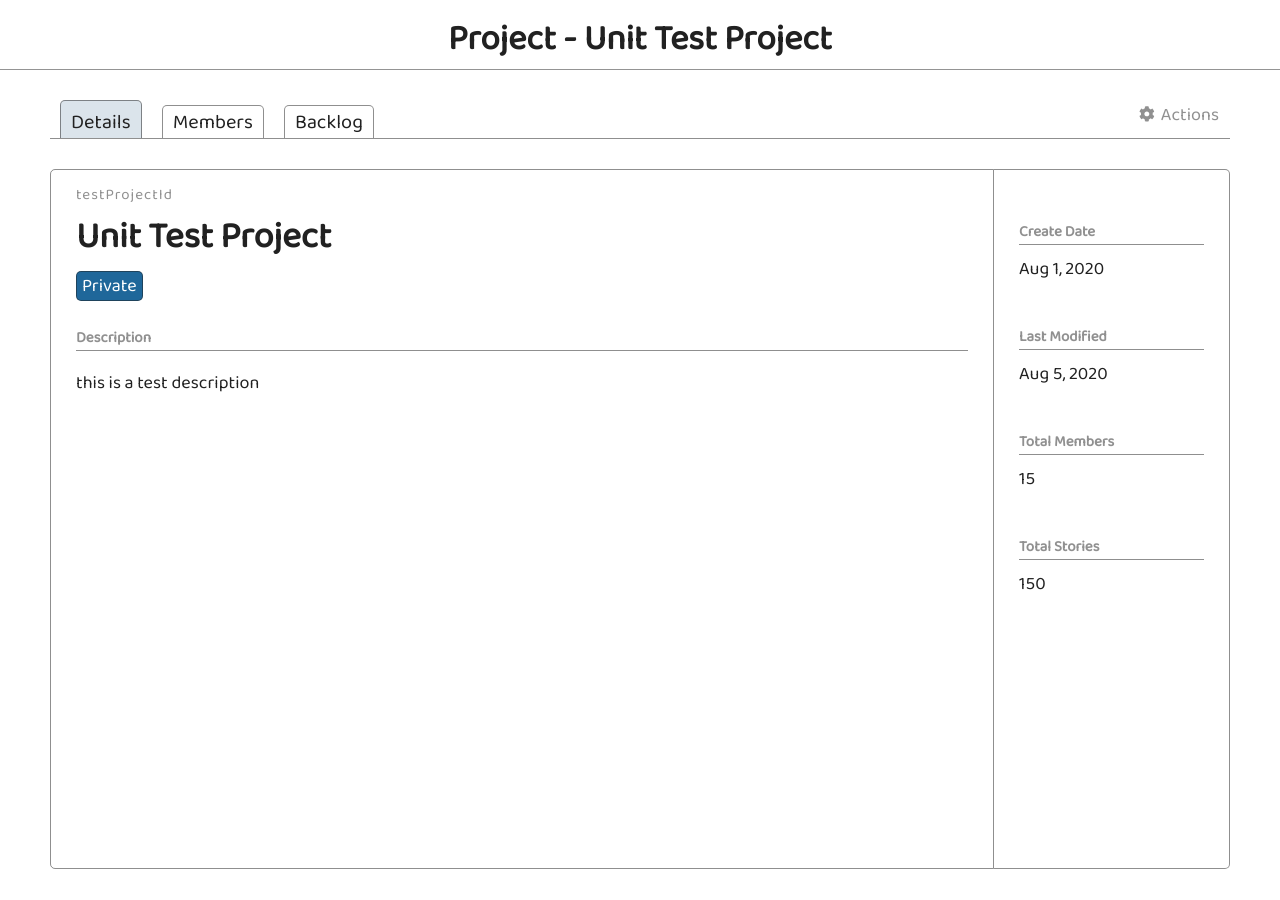
Test: <ProjectDetails /> › should show the delete membership modal if the action is clicked with sufficient permission
Click the text "Members": click(213, 122) [162, 105, 264, 138]
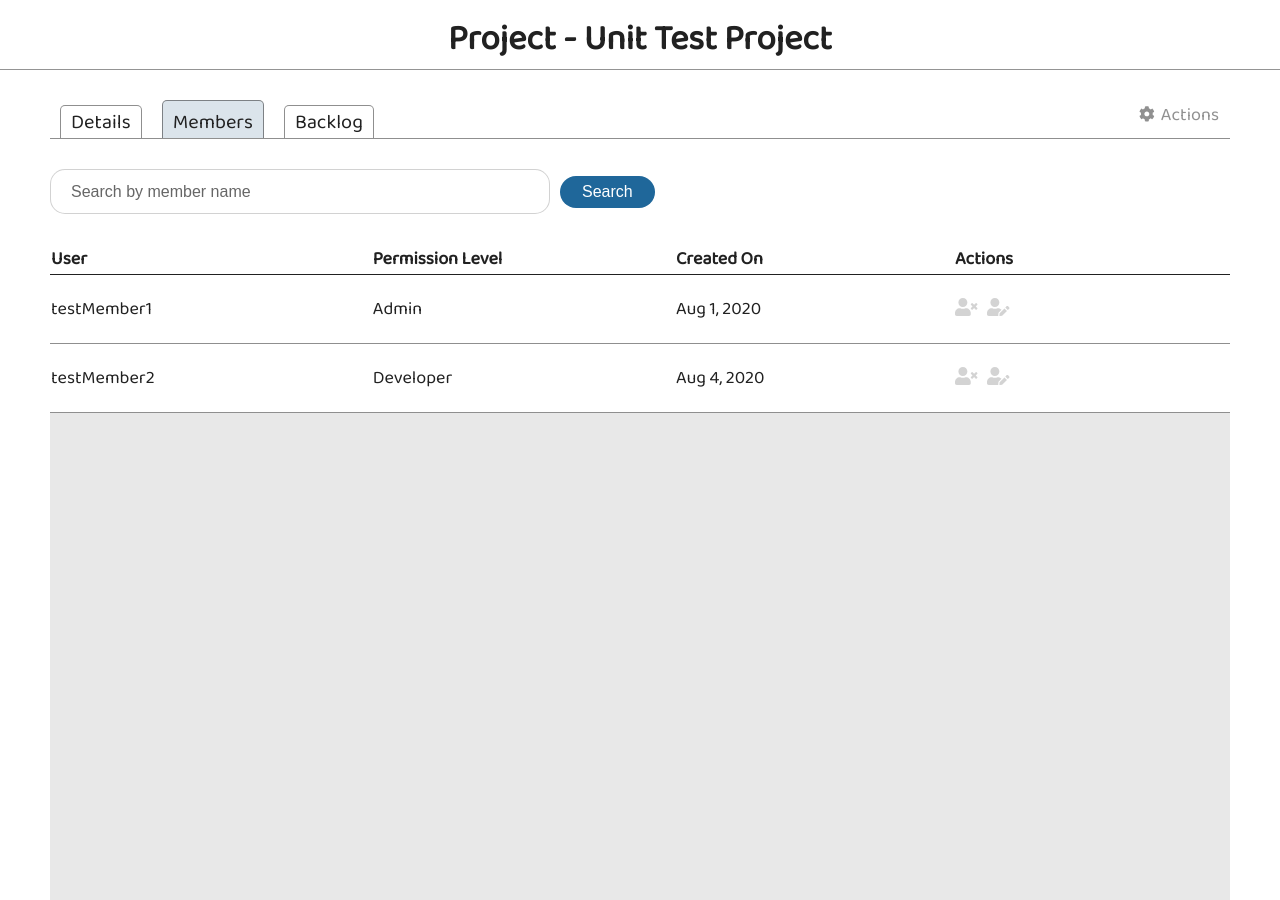
Click the 2nd element with test id "action.deleteMembership": click(966, 376) [955, 367, 977, 385]
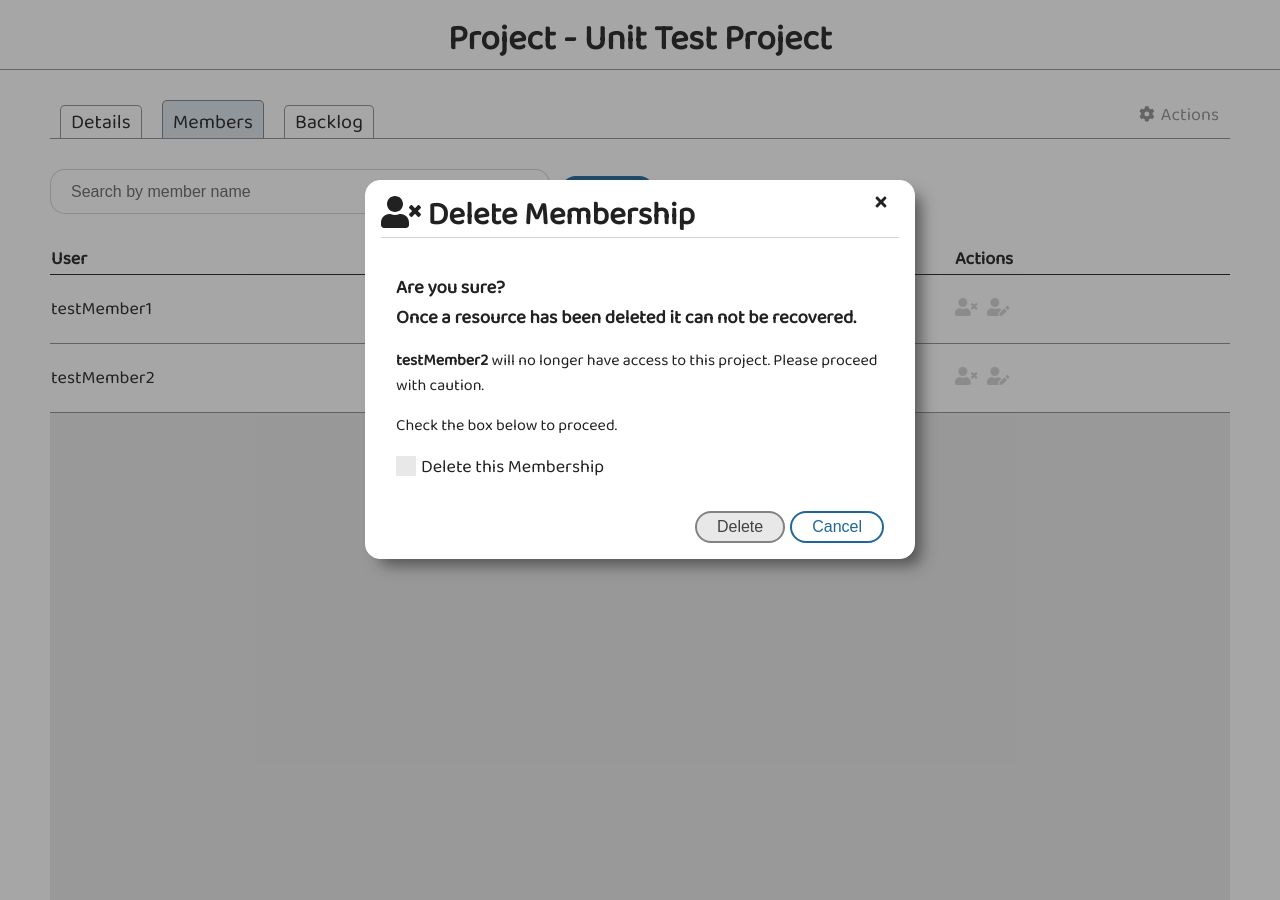
Check: the element with test id "membershipDeleteModal.wrapper" is shown
